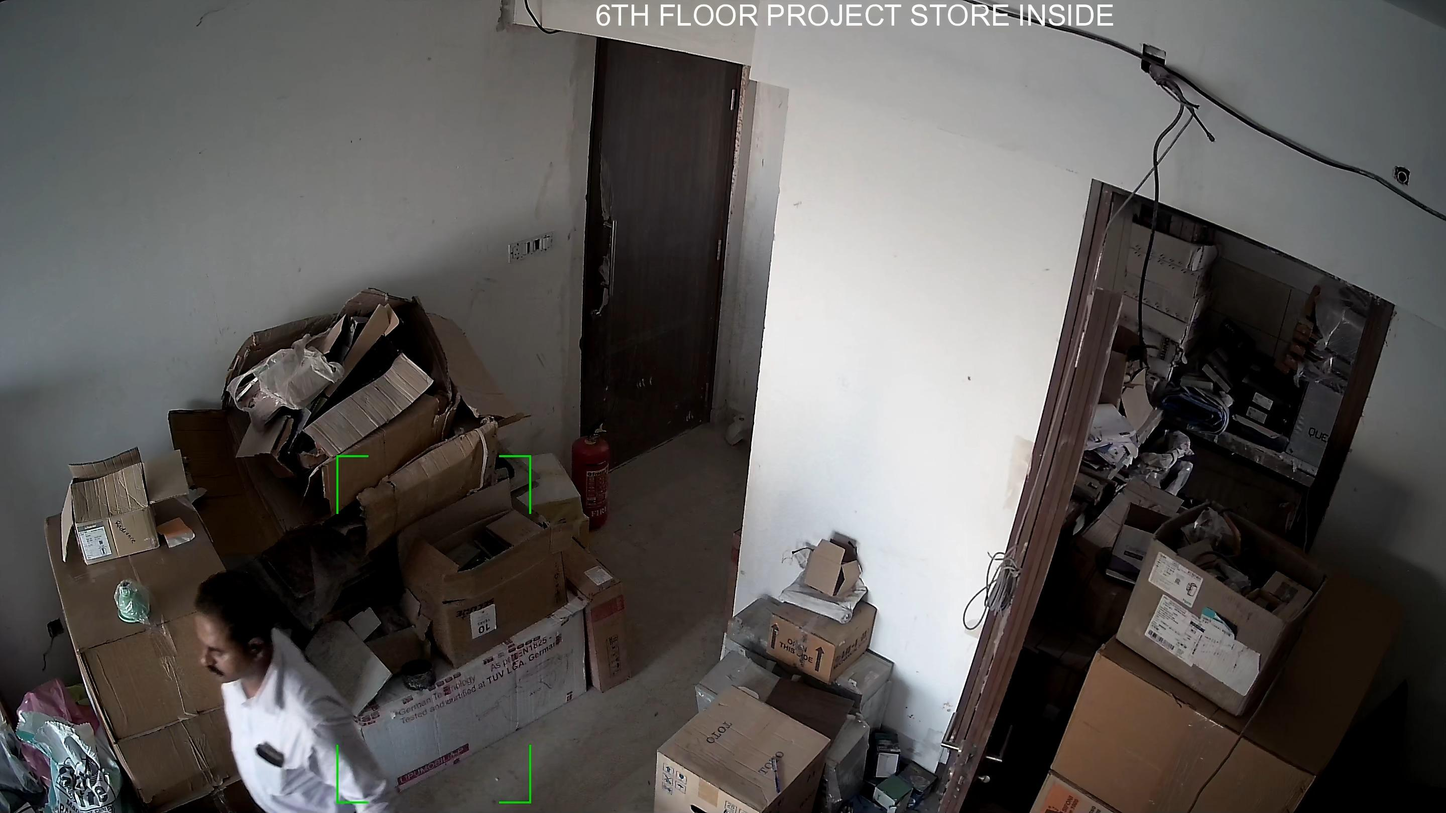Door-Close: (560, 31, 744, 471)
